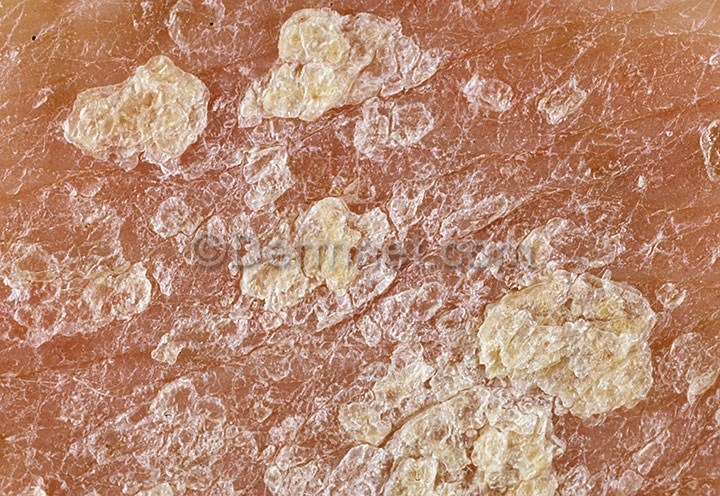Psoriasis: (50, 21, 691, 489)
